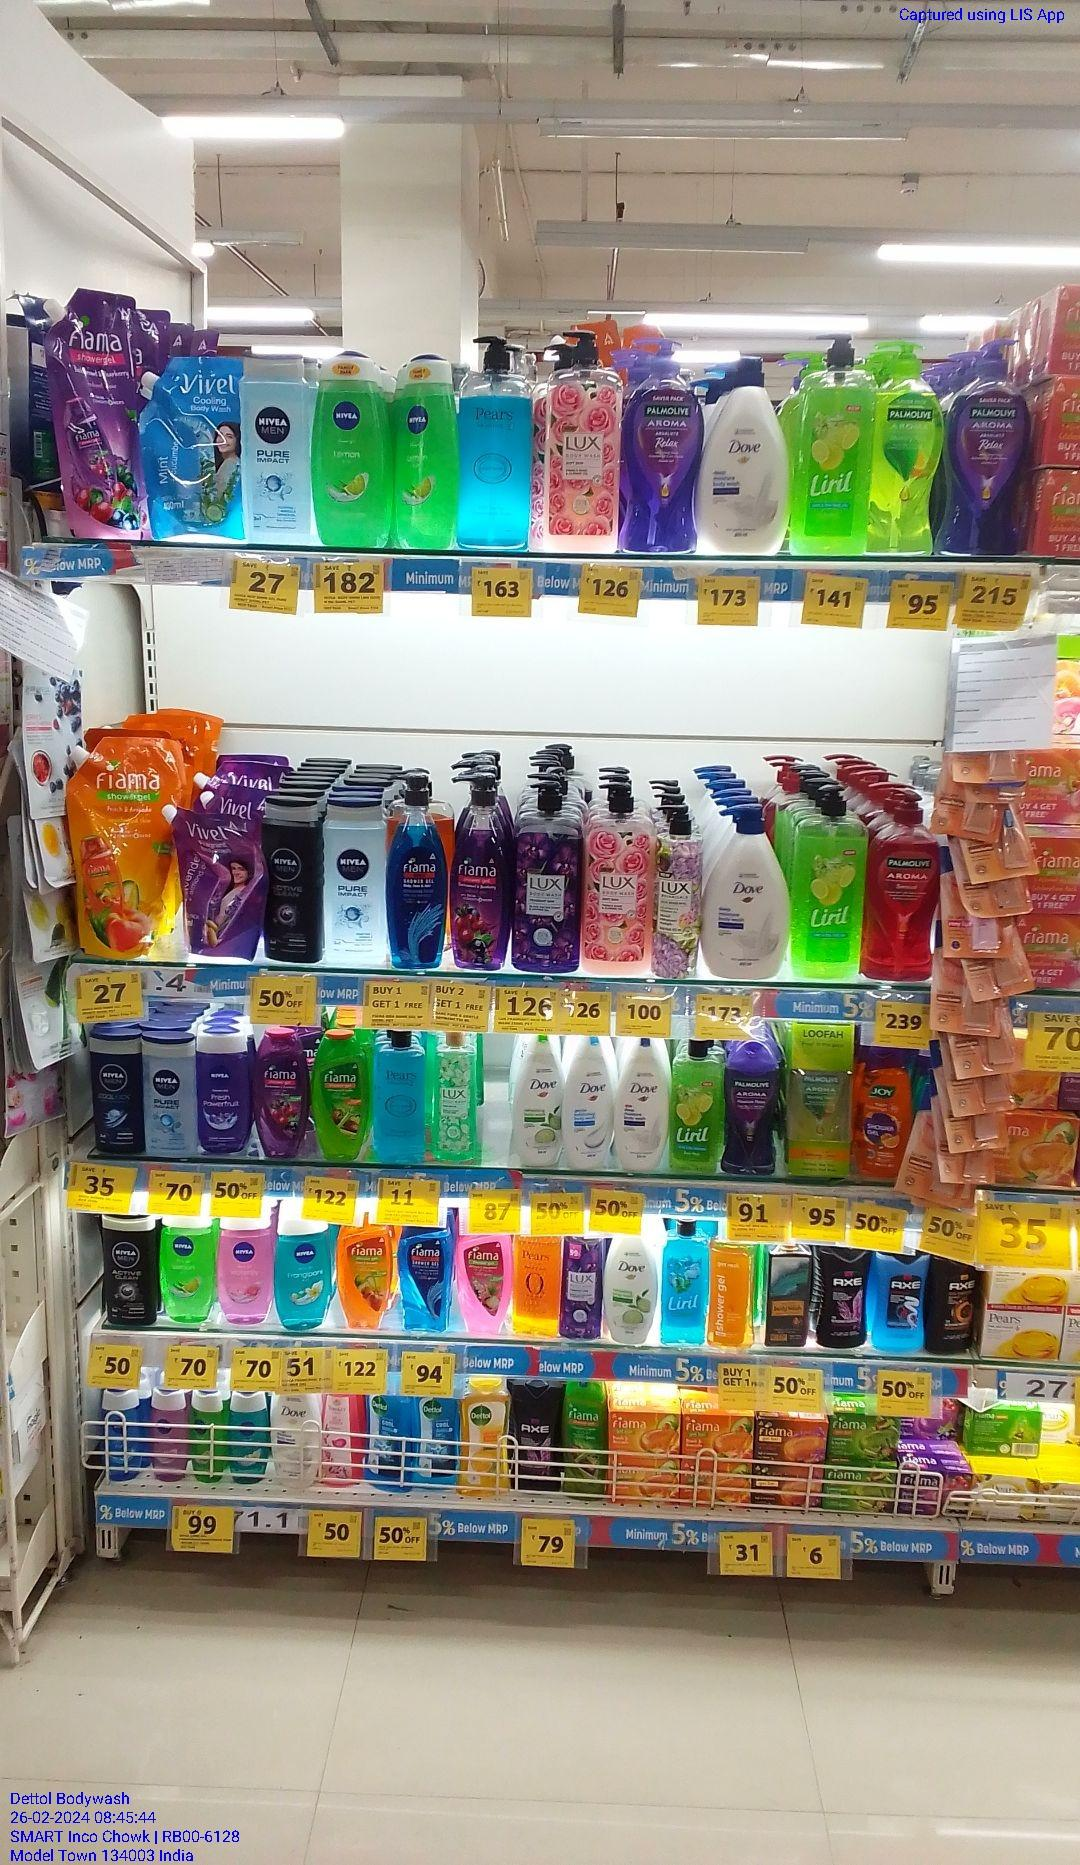Dettol_Bodywash_Cool: (368, 1393, 411, 1492), (417, 1398, 458, 1490)
Dettol_Bodywash_Refresh: (463, 1379, 509, 1494)
Dove_Deep_Moisture_Body_Wash_250ML: (621, 1037, 672, 1173)
Dove_Gentle_Exfoliating_Body_Wash_250ML: (566, 1036, 615, 1171)
Dove_Refreshing_Body_Wash_250ML: (516, 1033, 561, 1167)
Fiama_Shower_Gel_Lemongrass_and_Jojoba_250ML: (310, 1033, 365, 1159)
Fiama_Shower_Gel_Peach_and_Avocado_250ML: (338, 1221, 388, 1330)
Joy_Shower_Gel_Mandarin_and_Lemongrass_250ML: (859, 1050, 912, 1182)
Liril_Lime_and_Tea_Tree_Oil_Body_Wash_250ML: (675, 1039, 720, 1172)
Lux_Body_Wash_Skin_Detox_Freesia_Scent_and_Alove_Vera_245ML: (437, 1031, 476, 1157)
Nivea_Shower_Gel_Frangipani_and_Oil_250ML: (276, 1213, 328, 1329)
Nivea_Shower_Gel_Lemon_and_Oil_250ML: (310, 352, 395, 549), (400, 352, 460, 549), (161, 1213, 213, 1325)
Palmolive_Aroma_Relax_250ML: (726, 1037, 778, 1173)
Pears_Pure_Glycerin_and_Mint_Extracts_Body_Wash_250ML: (377, 1032, 426, 1166)
